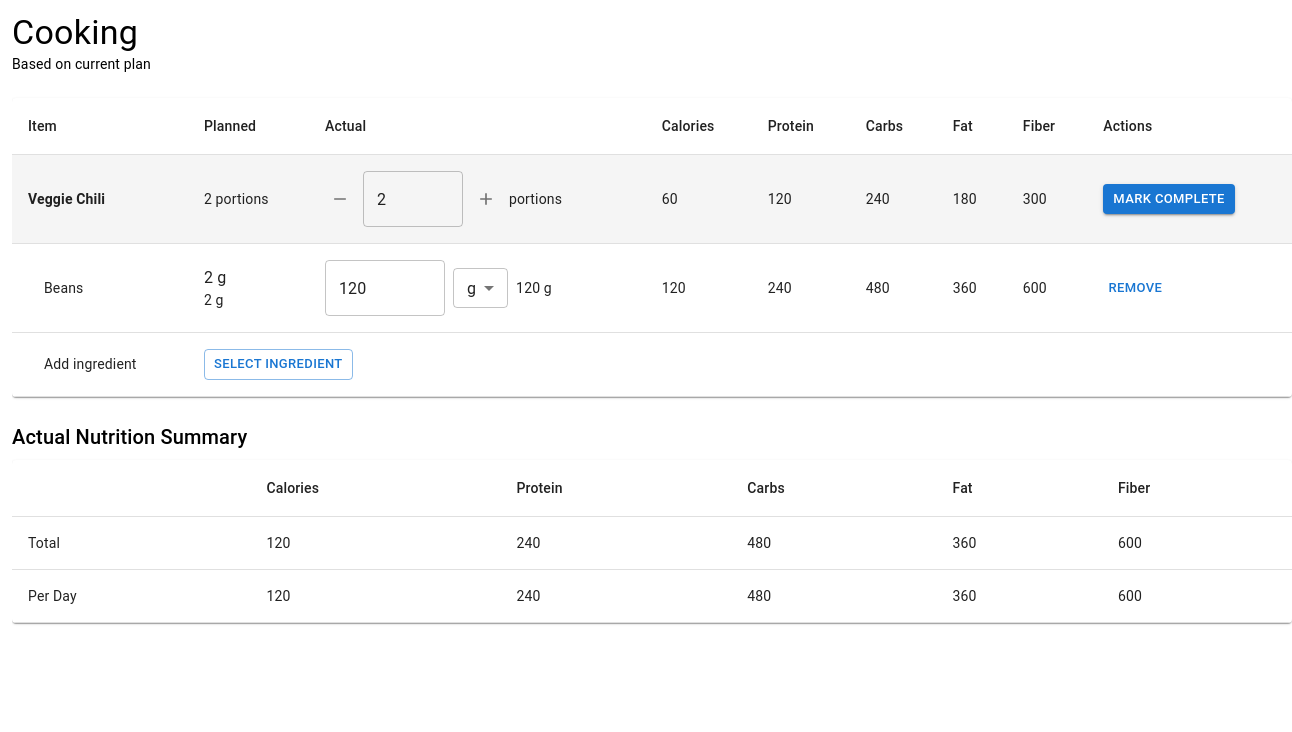
it: Cooking component › marks a food item complete and posts cooking results
The image size is (1292, 732).
Click the button "Mark complete" at [1169, 199], box [1103,184,1235,214]
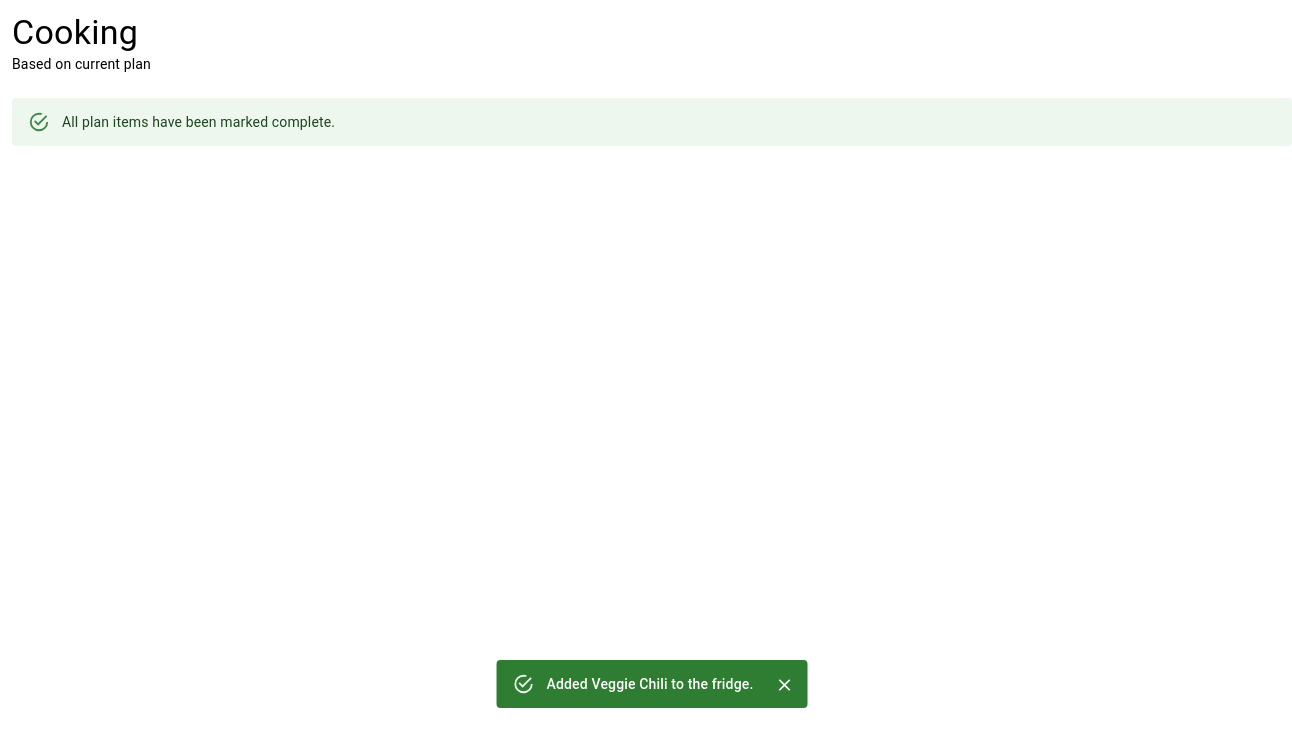
Check: the button "Mark complete" is gone
